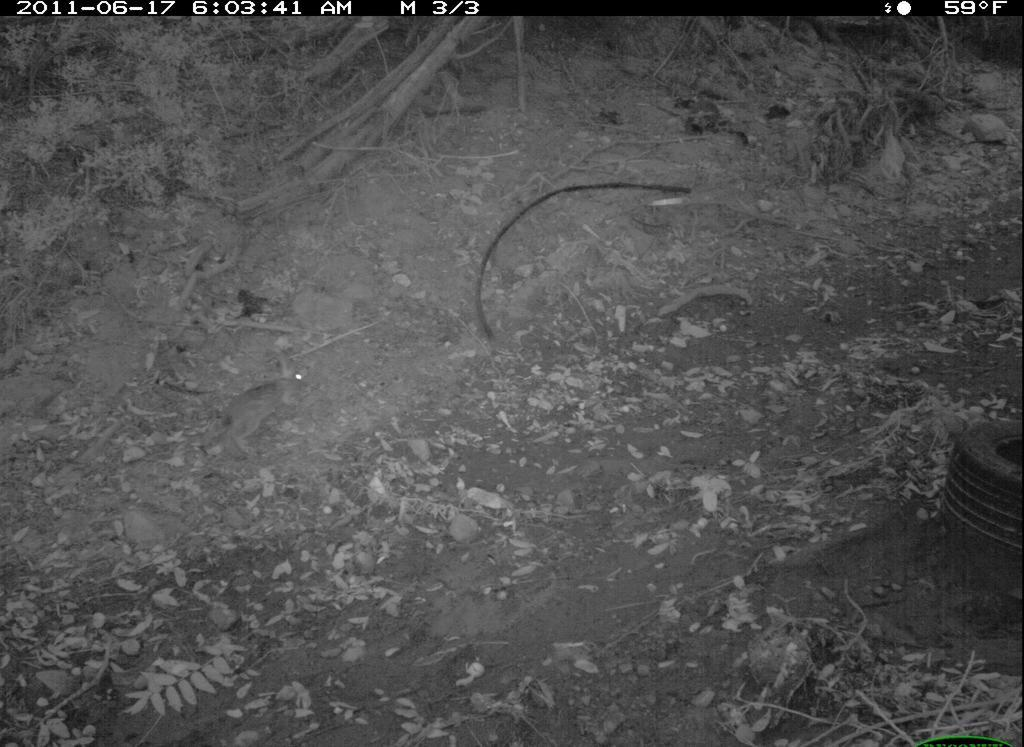rabbit: (210, 351, 322, 455)
